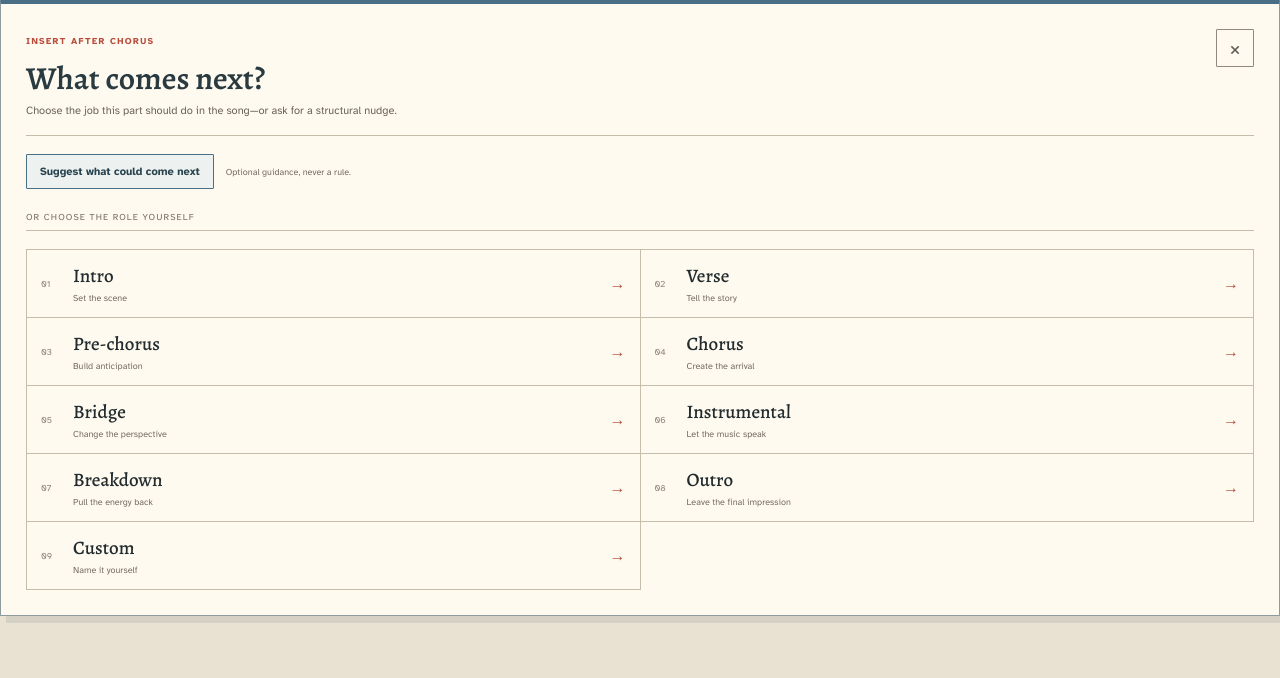
section creation choices › offers optional structural guidance for the exact insertion point
Expected: the text "A second verse returns" is not shown
Click the button "Suggest what could come next": [120, 172] box [26, 154, 214, 189]
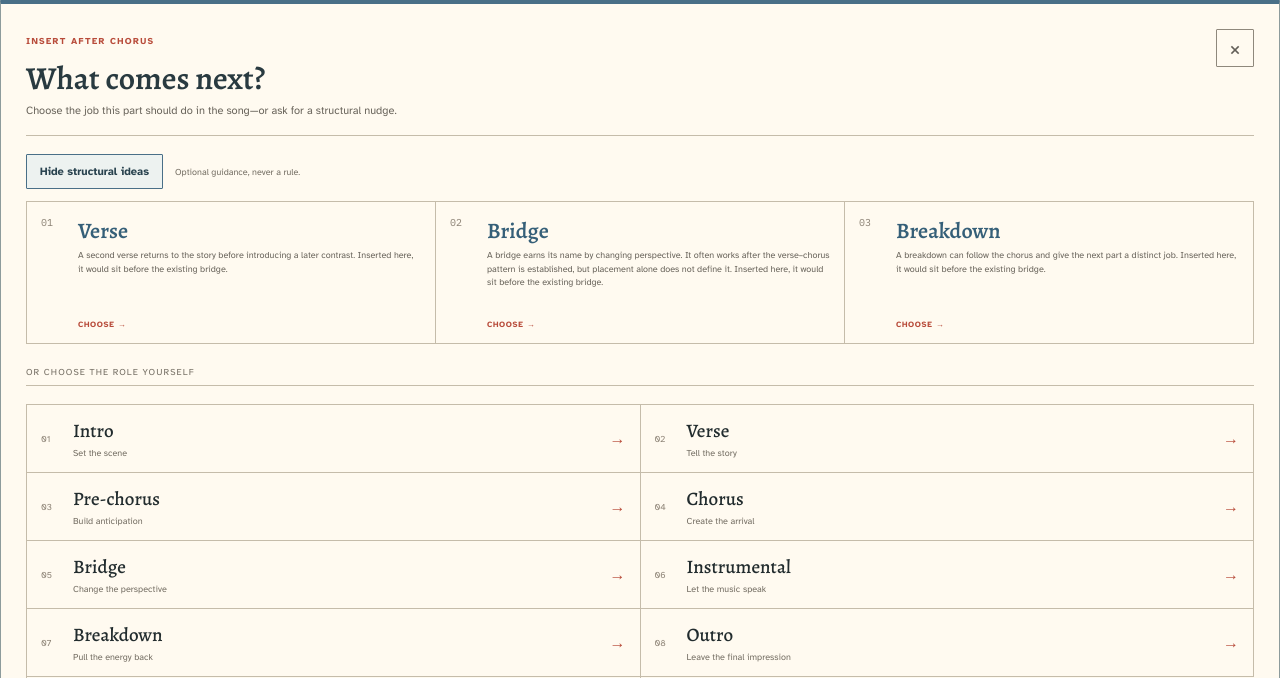
Expected: the text "A second verse returns" is shown, [78, 249, 413, 274]
Expected: the text "before the existing bridge" is shown 3 times, [78, 249, 421, 276]; [487, 249, 830, 290]; [896, 249, 1239, 276]
